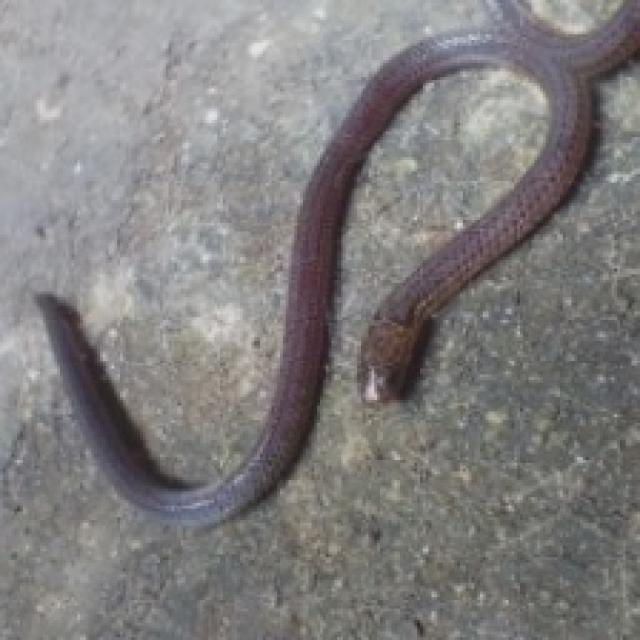gervais worm snake: (34, 0, 637, 523)
